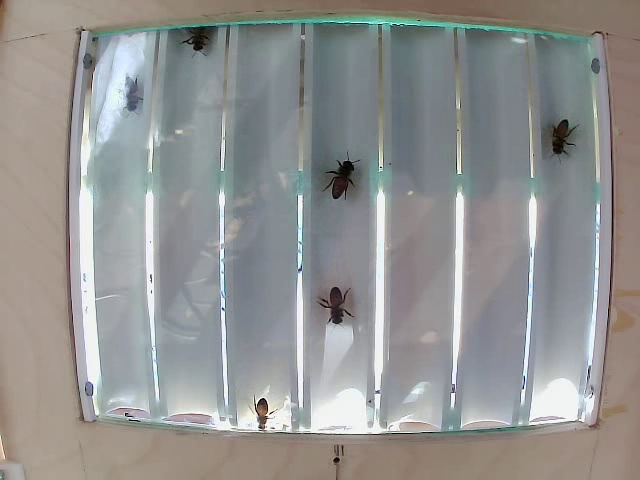bee: (322, 150, 376, 216), (107, 69, 158, 127), (318, 276, 360, 323), (544, 104, 578, 159), (240, 393, 283, 429), (176, 22, 218, 56)
